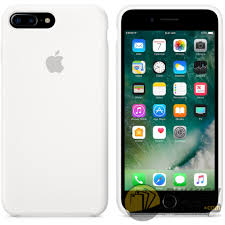iphone: (117, 2, 225, 222), (2, 2, 109, 222)
iphone7: (1, 1, 107, 220), (118, 4, 218, 218)
